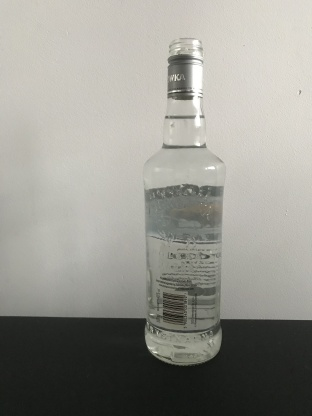nakretka: (165, 38, 205, 100)
